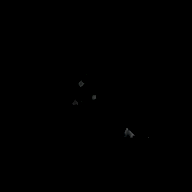v: (71, 79, 96, 105)
